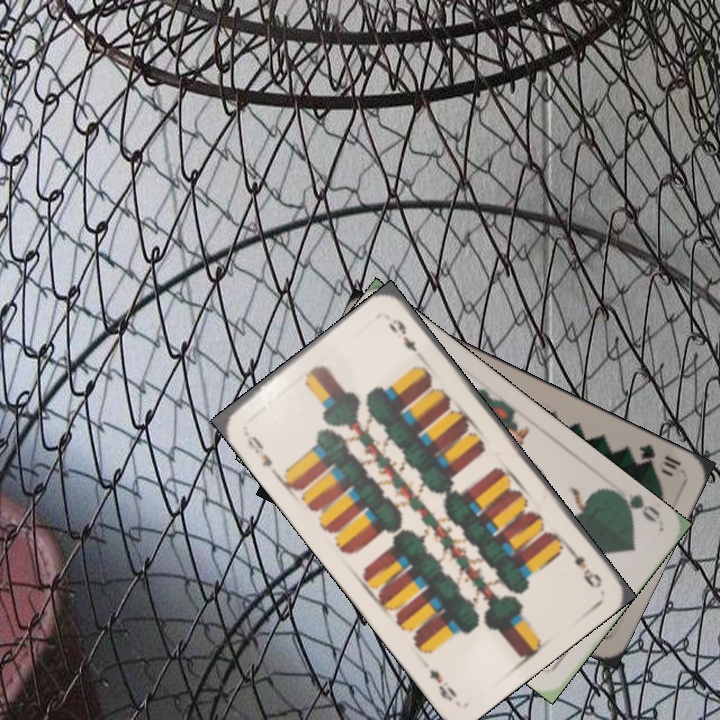E9: (562, 541, 605, 591), (243, 432, 275, 470)
G10: (635, 439, 684, 472)
GO: (610, 486, 663, 526)
